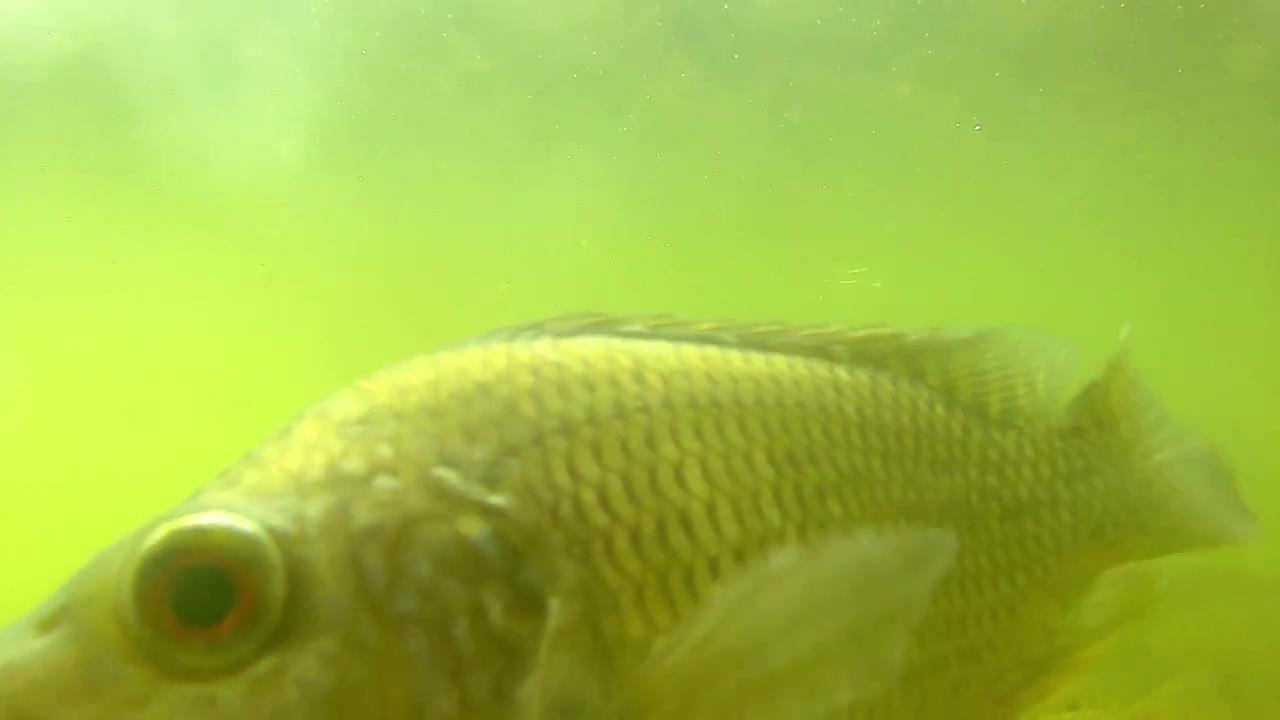Tilapia: (1, 306, 1280, 720)
